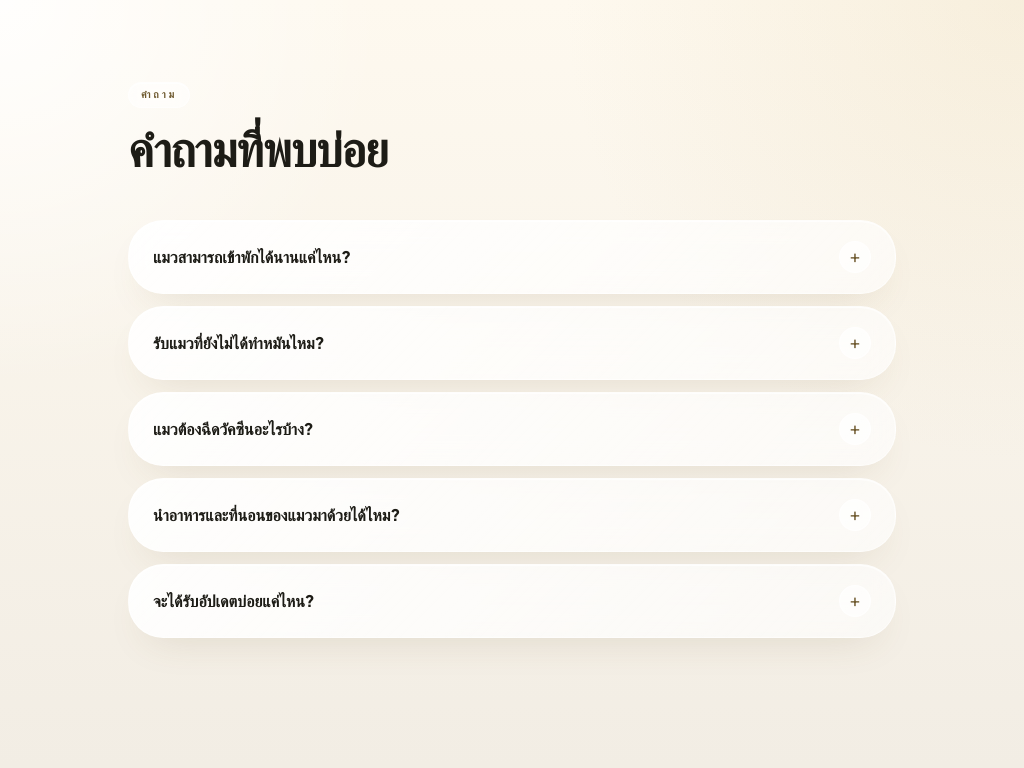
Scenario: FAQ › collapses an open answer when clicked again
Step 1. Click the text "แมวสามารถเข้าพักได้นานแค่ไหน?" → {"x": 252, "y": 257}, box left=153, top=245, right=351, bottom=269
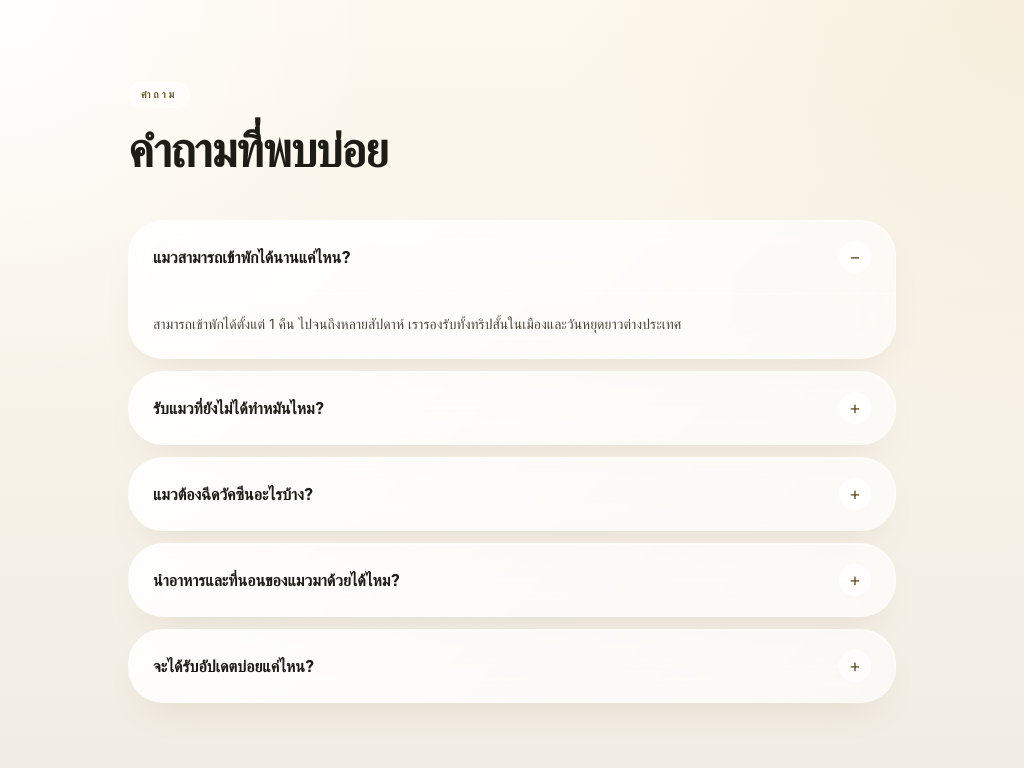
Now the text "สามารถเข้าพักได้ตั้งแต่ 1 คืน" is shown, box left=153, top=315, right=682, bottom=332
Step 2. Click the text "แมวสามารถเข้าพักได้นานแค่ไหน?" → {"x": 252, "y": 257}, box left=153, top=245, right=351, bottom=269
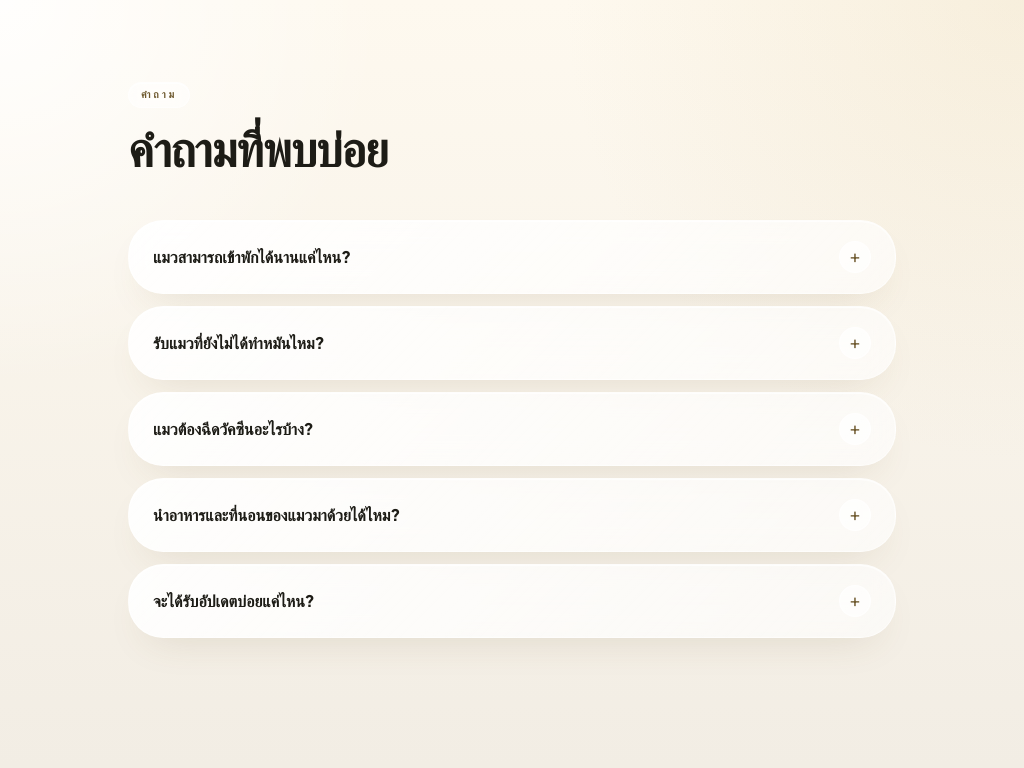
Now the text "สามารถเข้าพักได้ตั้งแต่ 1 คืน" is gone
